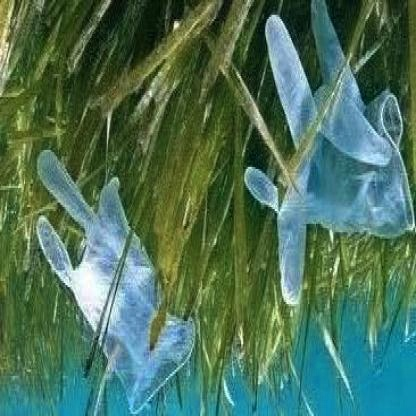glove: (244, 0, 414, 310), (35, 137, 200, 414)
